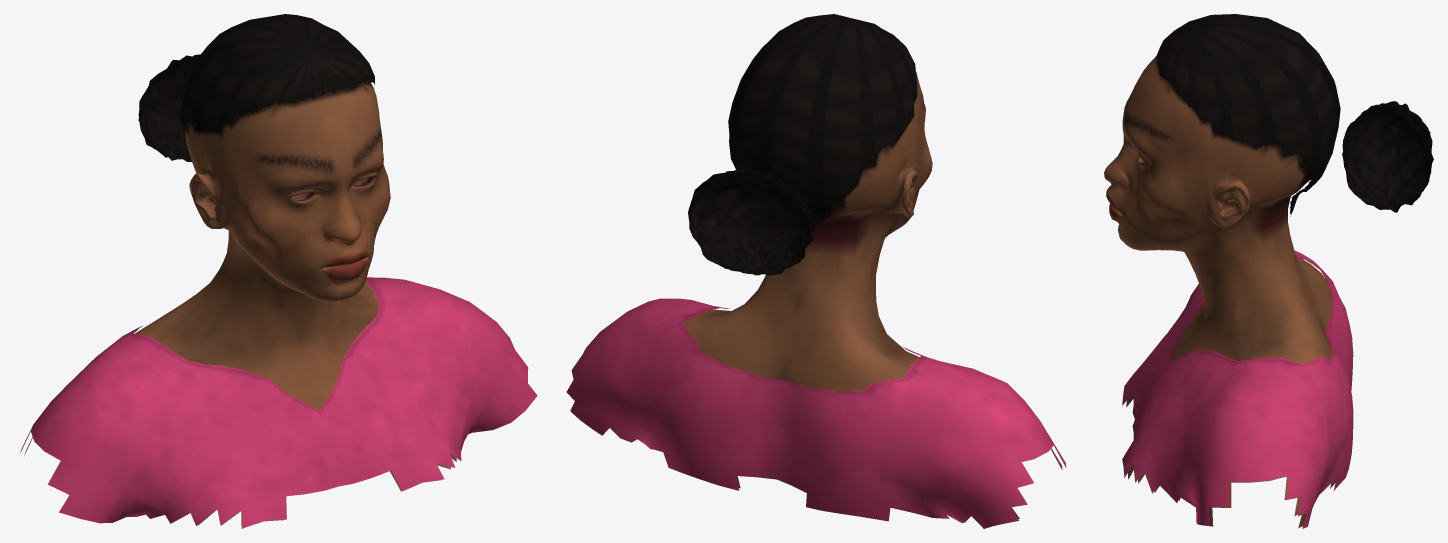
The model's file is grace.glb.
3 renders of one model, left to right at view 1: azimuth 30°, elevation 25°; view 2: azimuth 150°, elevation 25°; view 3: azimuth 270°, elevation 25°, orthographic. The views are drawn at different scales.
Parts seen in each view (by area): view 1: shirt, head, hair, bun; view 2: shirt, head, hair, bun; view 3: head, shirt, hair, bun.
Part boxes in pixels (box(x1,y1,x2,y2)): shirt: box(20, 277, 537, 528); head: box(24, 80, 456, 528); hair: box(180, 14, 374, 135); bun: box(138, 54, 200, 161); shirt: box(566, 298, 1066, 528); head: box(683, 72, 1062, 518); hair: box(728, 14, 917, 231); bun: box(688, 169, 813, 275); head: box(1104, 55, 1336, 527); shirt: box(1122, 250, 1353, 528); hair: box(1156, 14, 1340, 216); bun: box(1342, 101, 1433, 212).
Bounding box in the file's own units: 4.65 × 4.12 × 2.94.
Materials: 6 (4 with a texture image).
